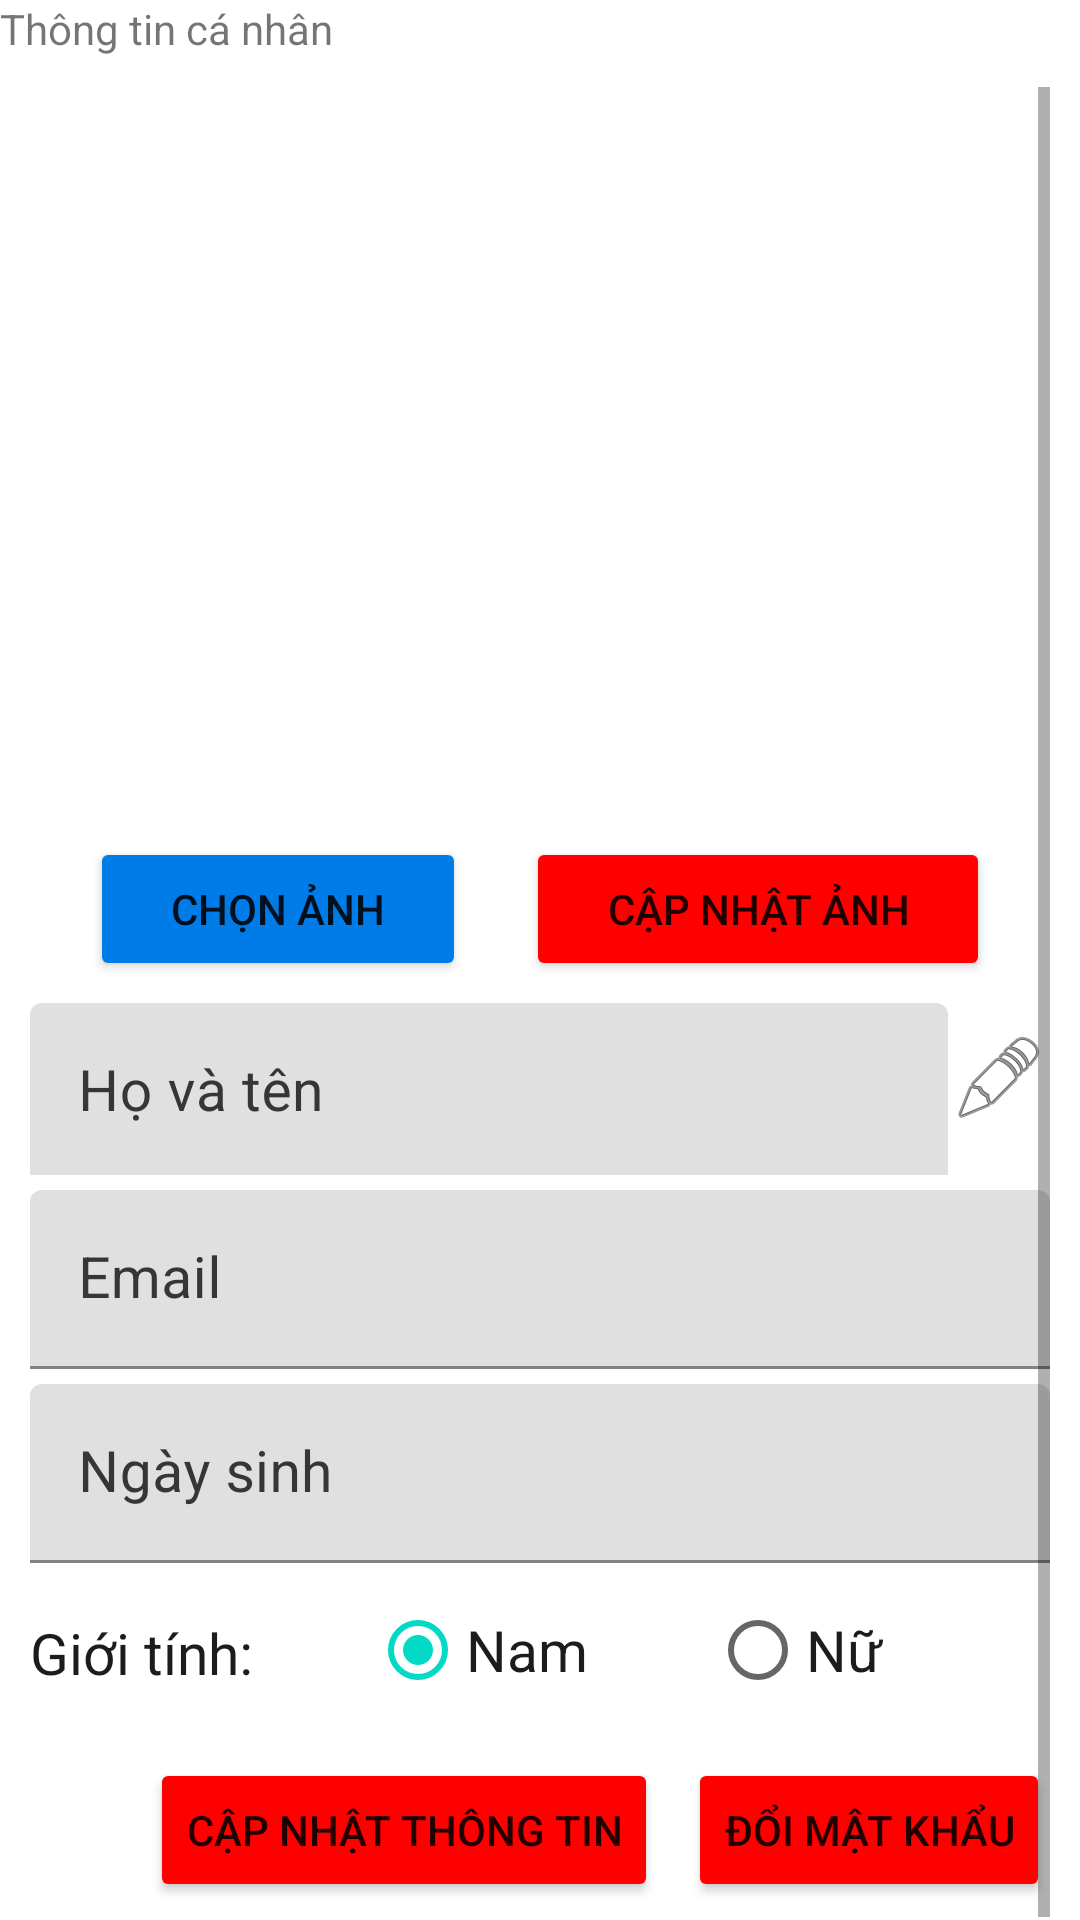

Named icons in this screenshot (1080 x 1920) and their bounding boxes, bbox=(x1, y1, x2, y2):
edit: bbox=(958, 1000, 1050, 1156)
